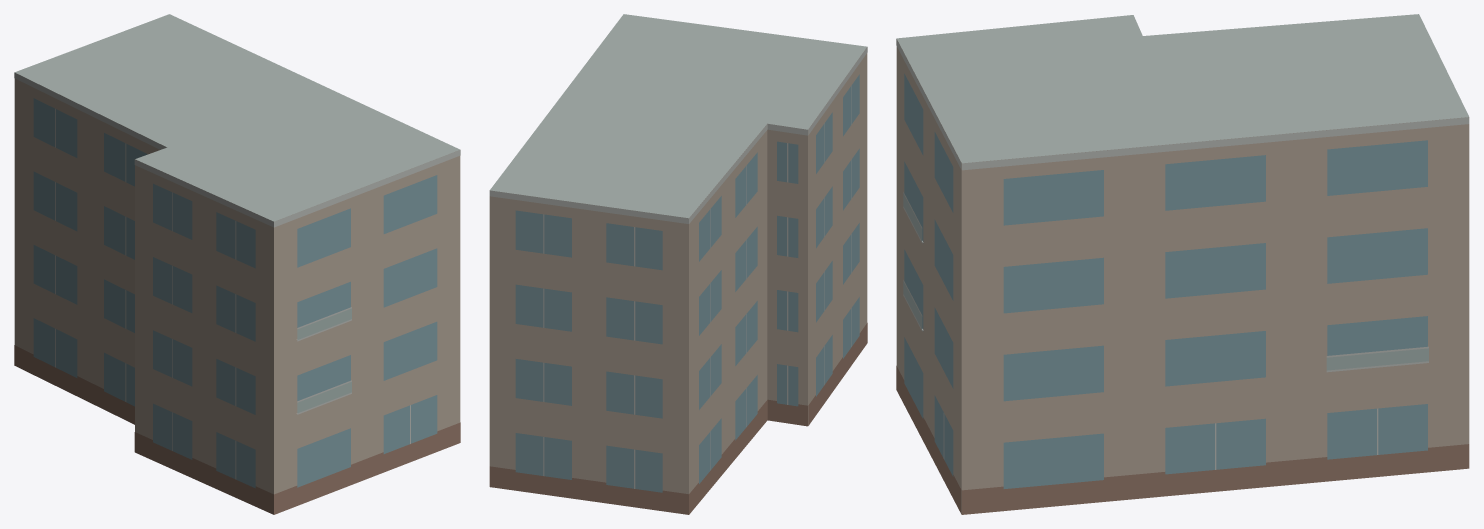
Rendered from survey-upis-32623924.glb.
3 views of the same model, side by side, from view 1: azimuth 30°, elevation 25°; view 2: azimuth 150°, elevation 25°; view 3: azimuth 270°, elevation 25° (orthographic). The views are drawn at different scales.
Parts seen in each view (by area): view 1: survey-upis-32623924.tmp; view 2: survey-upis-32623924.tmp; view 3: survey-upis-32623924.tmp.
Part boxes in pixels (x1,y1,x2,y2): survey-upis-32623924.tmp: [14, 14, 460, 514]; survey-upis-32623924.tmp: [489, 14, 867, 514]; survey-upis-32623924.tmp: [896, 14, 1469, 514].
Bounding box in the file's own units: 11.13 × 12.2 × 18.03.
